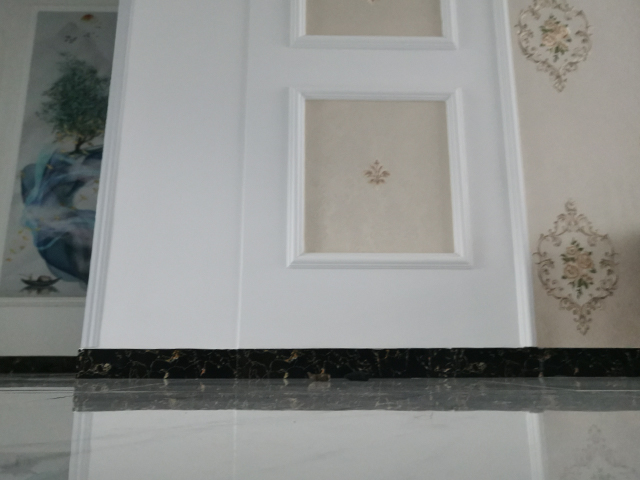feces: (343, 369, 371, 382), (306, 371, 332, 382)
